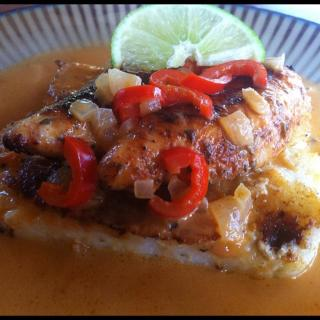tomato: (144, 142, 213, 222), (38, 137, 98, 207), (145, 65, 213, 118), (176, 60, 268, 87), (110, 86, 166, 121)
